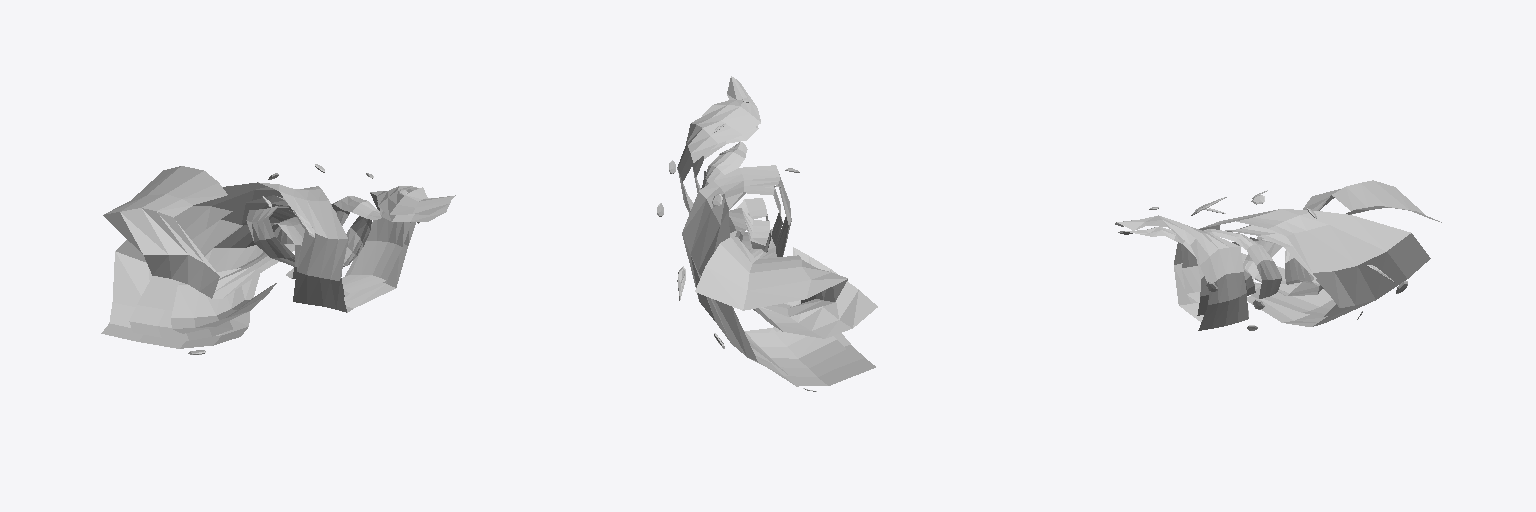
File: Wind Sculpt_Part 1.obj
The picture shows the model from 3 angles: view 1: azimuth 30°, elevation 25°; view 2: azimuth 150°, elevation 25°; view 3: azimuth 270°, elevation 25°; orthographic projection.
Parts seen in each view (by area): view 1: Wind; view 2: Wind; view 3: Wind.
Boxes of the visible parts, box(x1,y1,x2,y2) form: Wind: box(101, 164, 455, 354); Wind: box(657, 76, 877, 391); Wind: box(1115, 180, 1441, 330).
Bounding box in the file's own units: 8.92 × 5.91 × 9.72.